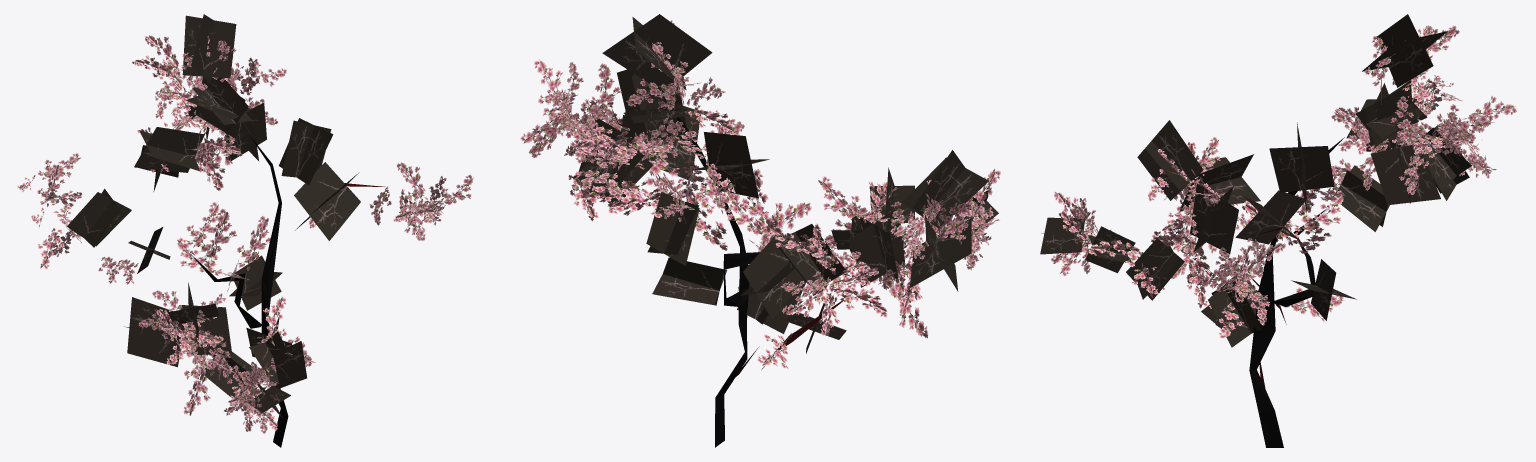
Rendered from sakura3 lod1.FBX.
3 views of the same model, side by side, from view 1: azimuth 30°, elevation 25°; view 2: azimuth 150°, elevation 25°; view 3: azimuth 270°, elevation 25° (orthographic). The views are drawn at different scales.
Parts seen in each view (by area): view 1: sakura3_LOD1; view 2: sakura3_LOD1; view 3: sakura3_LOD1.
Boxes of the visible parts, x1,y1,x2,y2 form: sakura3_LOD1: (17, 14, 473, 447); sakura3_LOD1: (520, 14, 1000, 447); sakura3_LOD1: (1040, 14, 1516, 447).
Size of the model in its own units: 109618 by 109991 by 112410.
